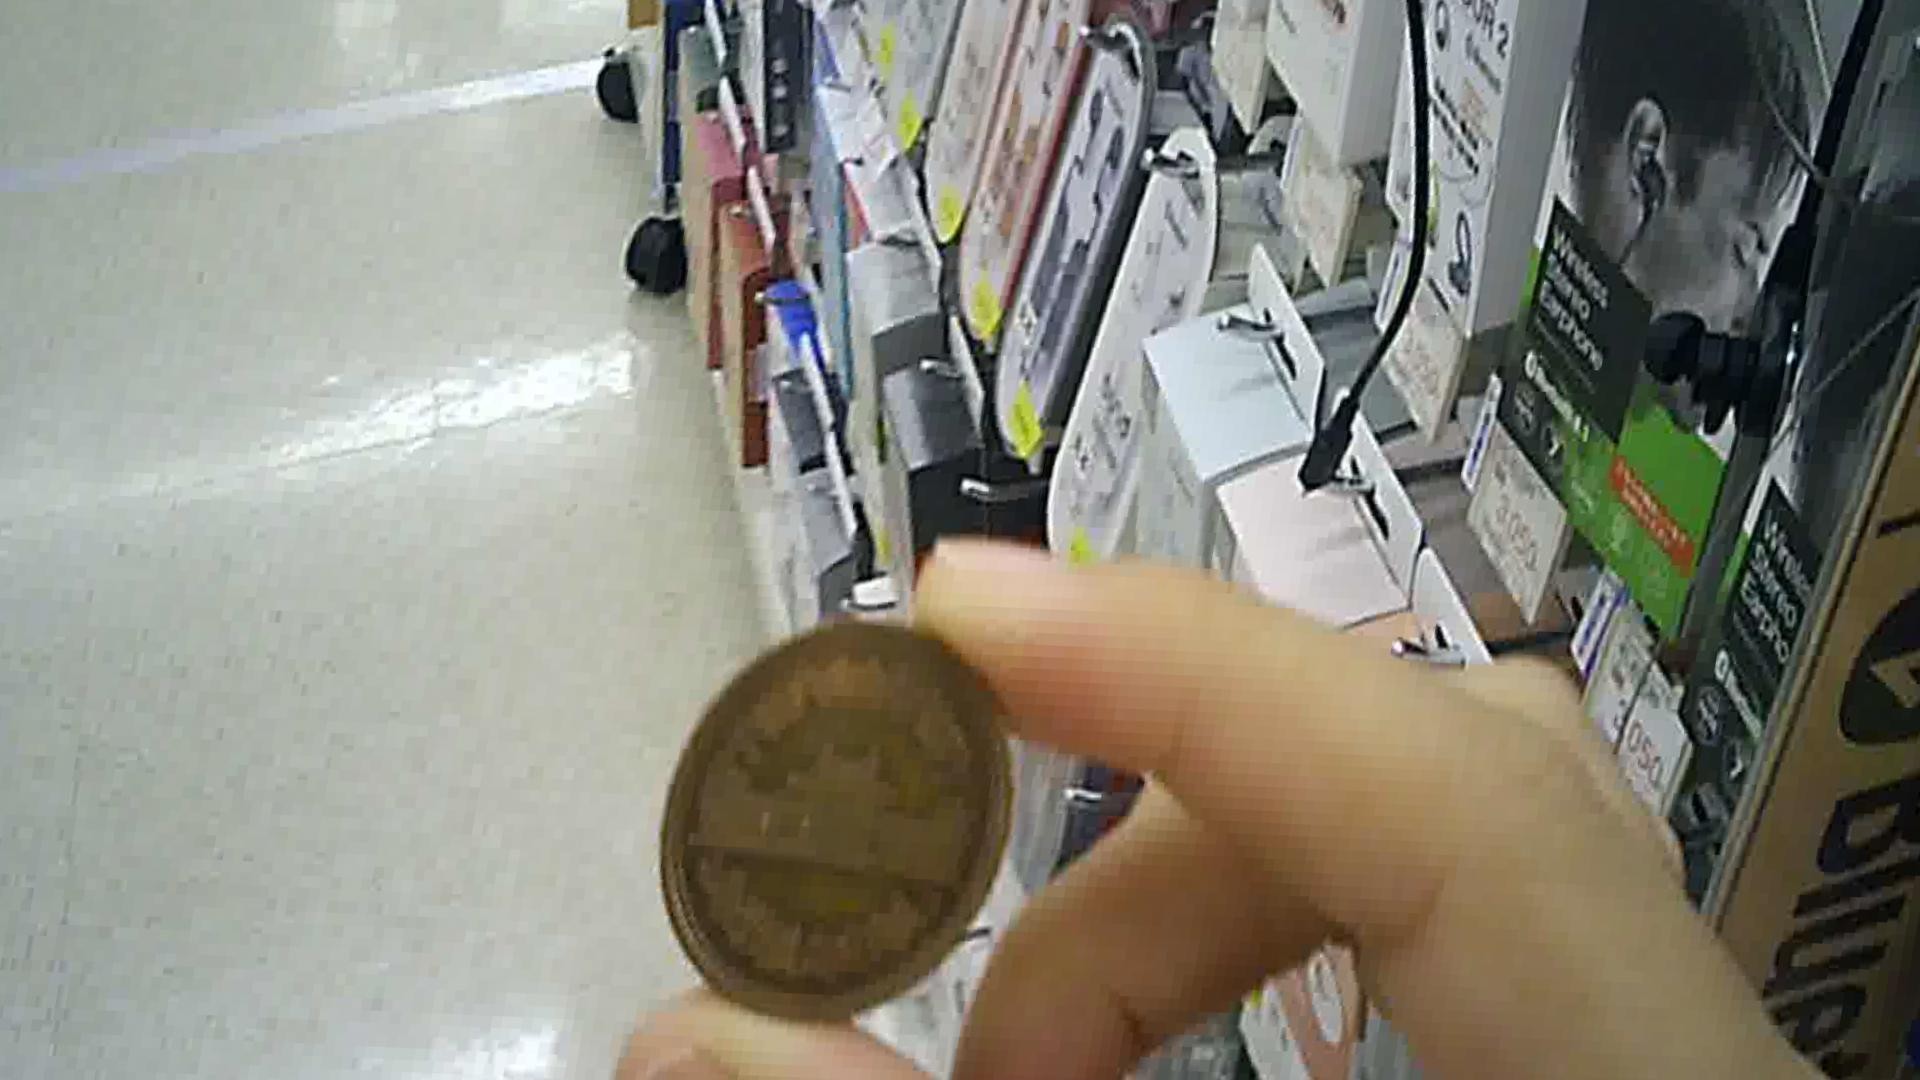10 Yen: (651, 644, 1034, 1021)
